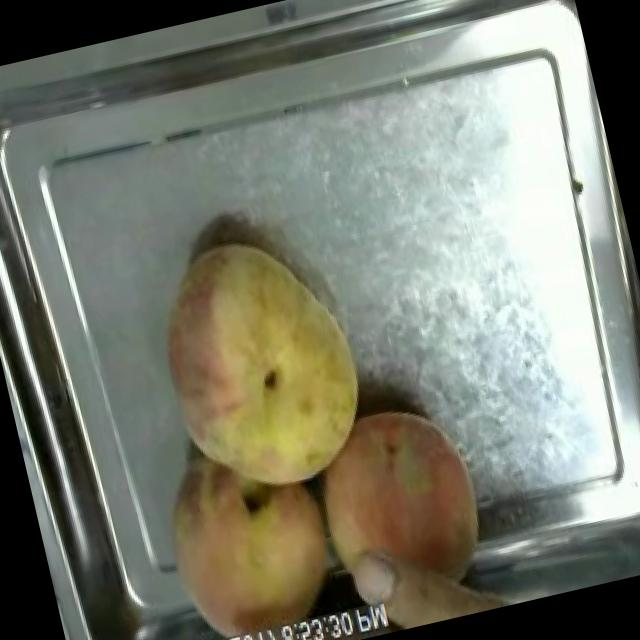Fruit: (130, 211, 388, 520), (294, 384, 510, 640), (139, 432, 352, 640)
